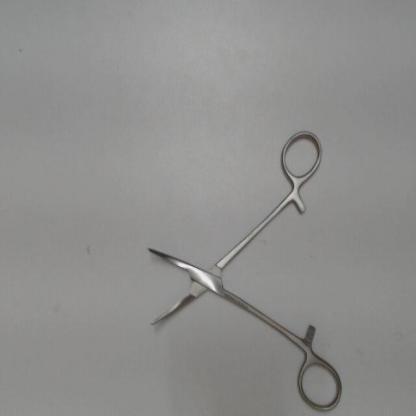Crile Artery Forceps: (136, 121, 350, 414)
